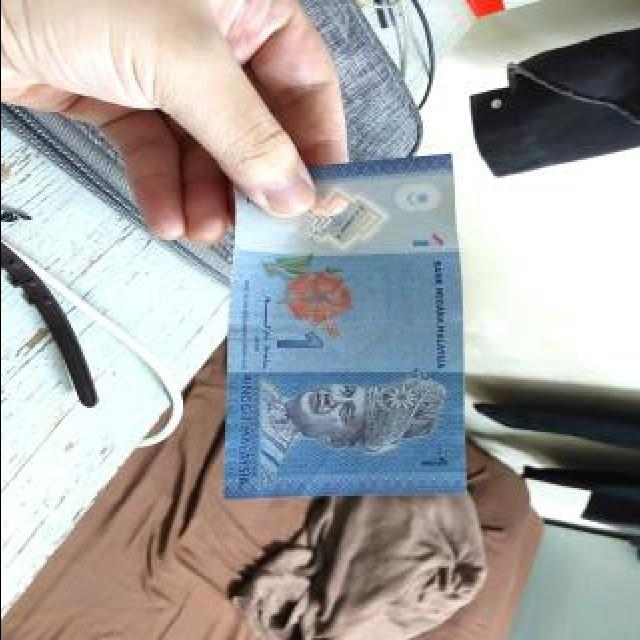1 Ringgit: (223, 142, 470, 499)
